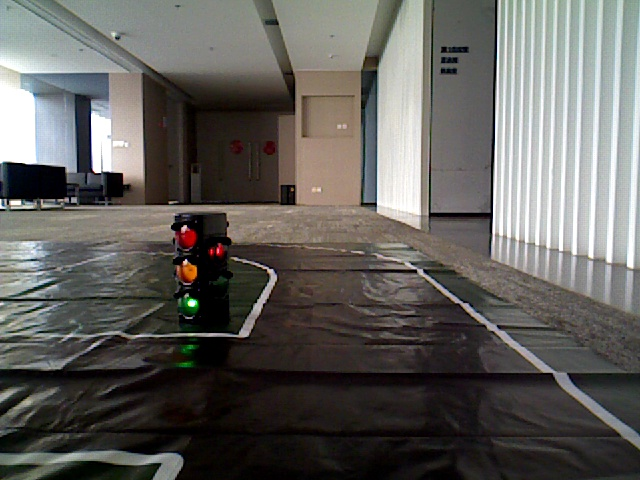green: (178, 217, 207, 309)
